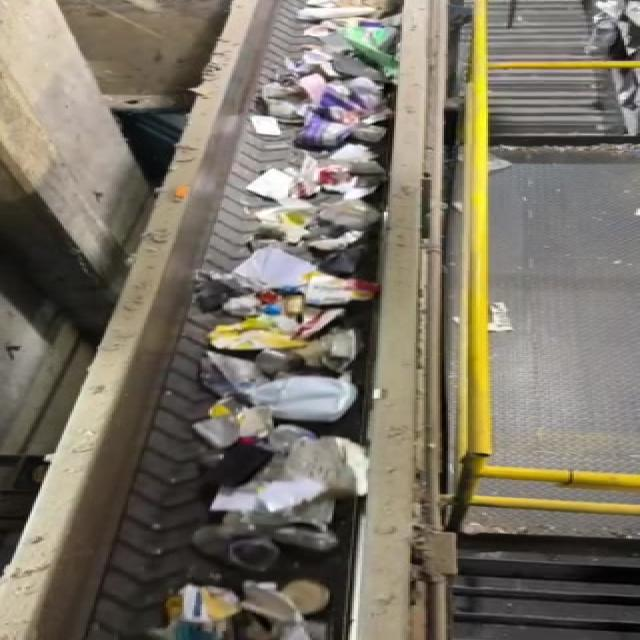hdpe: (227, 376, 368, 421)
paper: (148, 577, 328, 640), (267, 433, 386, 496)
pp: (186, 520, 372, 568)
